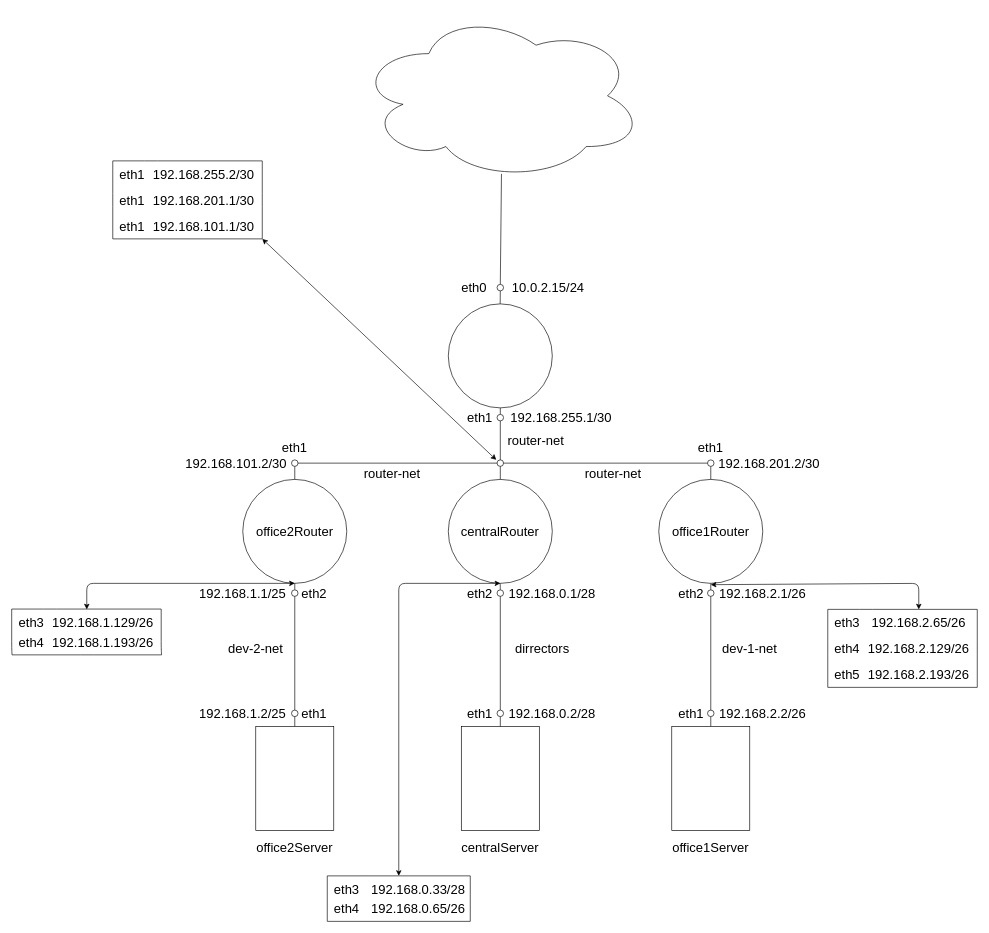
Image size: 989x933. Some labels were removed from this diagram. The centre of each missing label's shape, as x and y in pixels:
"inetRouter" goes at [500,355].
"INTERNET" goes at [500,95].
